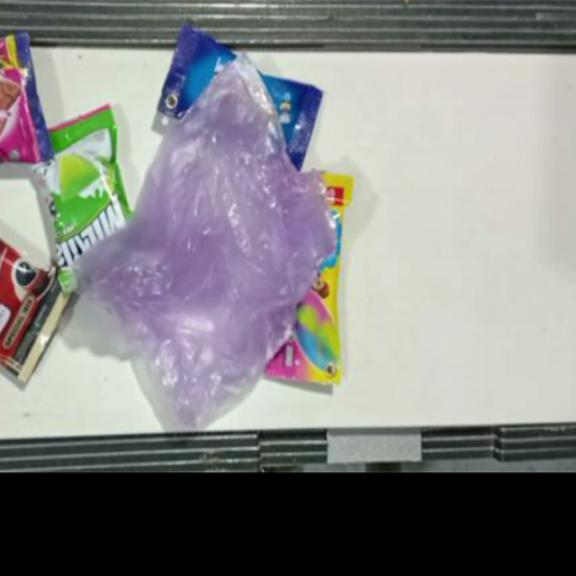Plastik: (77, 51, 336, 430), (157, 21, 323, 169), (28, 105, 136, 291), (264, 172, 355, 388), (0, 240, 71, 385), (0, 34, 52, 161)
